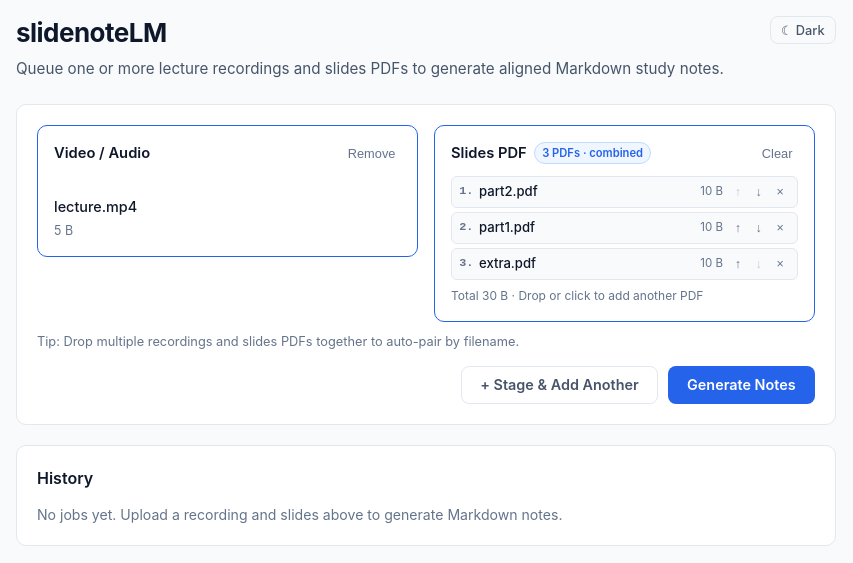
Test: slidenoteLM App › allows dropping multiple PDFs into the Slides PDF box, reordering them, and uploading them together in order
Earlier steps of the test are not shown.
Later steps or results of the test are not shown.
Check: the text "part2.pdf" is shown, box [479,183,538,199]
Check: the text "3 PDFs · combined" is shown, box [534,142,651,164]
Click the button named "Remove extra.pdf" at (780, 264), box [770,254,790,274]
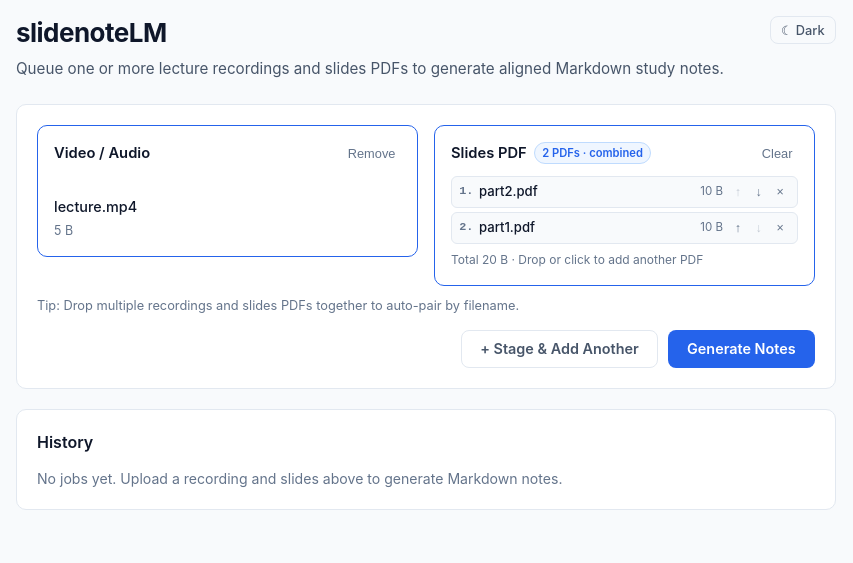
Check: the text "2 PDFs · combined" is shown, box [534,142,651,164]
